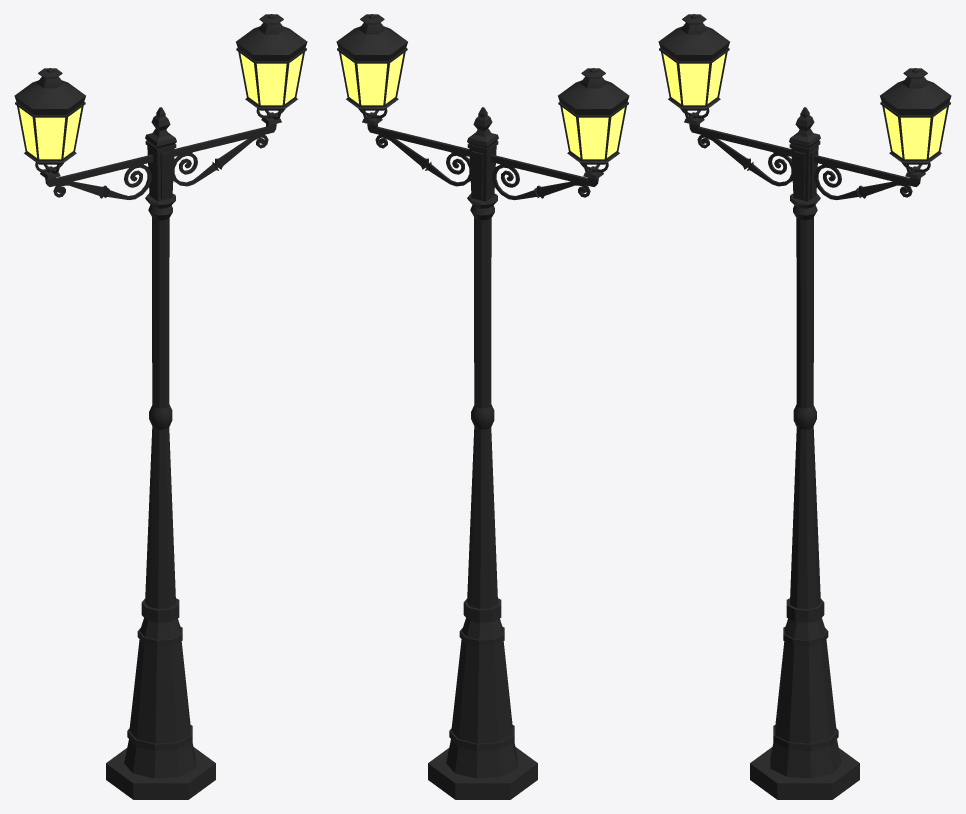
Rendered from light_post.fbx.
3 views of the same model, side by side, from view 1: azimuth 30°, elevation 25°; view 2: azimuth 150°, elevation 25°; view 3: azimuth 330°, elevation 25° (orthographic).
Visible parts, largest first — view 1: FarolaDe1.001; view 2: FarolaDe1.001; view 3: FarolaDe1.001.
Boxes of the visible parts, <box> form: FarolaDe1.001: <box>14,14,307,799</box>; FarolaDe1.001: <box>336,14,629,799</box>; FarolaDe1.001: <box>658,14,951,799</box>.
Bounding box in the file's own units: 128 × 329 × 44.52.
